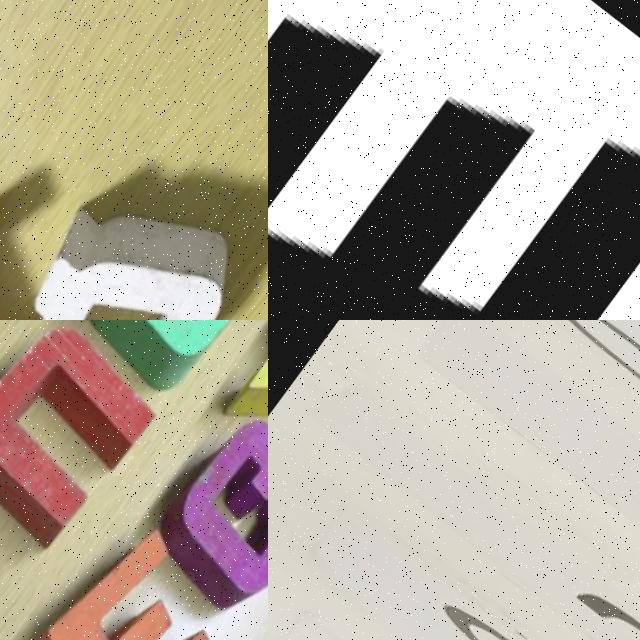0: (526, 320, 640, 472)
C: (67, 320, 268, 391)
E: (268, 89, 640, 320), (5, 493, 255, 640)
G: (130, 394, 268, 627)
Q: (0, 144, 259, 320)
U: (0, 320, 163, 566)
X: (216, 320, 268, 476)
